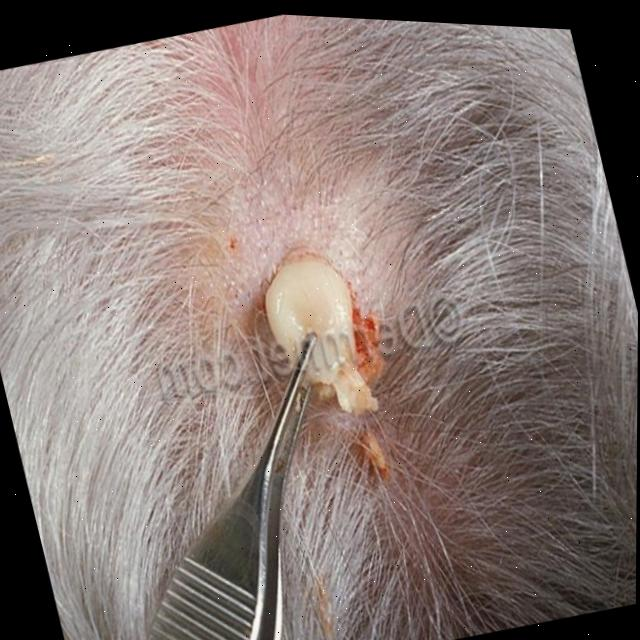Eczema: (249, 216, 422, 402)
